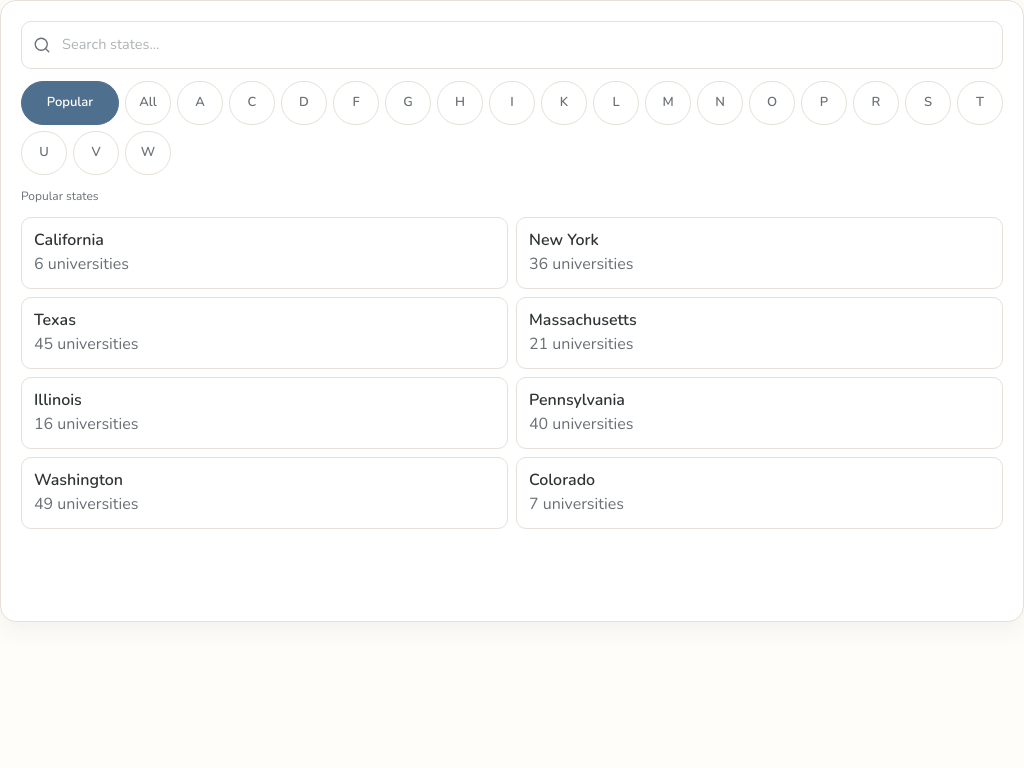
Test: StatePanel › returns to the first page when the search changes
Click the button "All" at [148, 103], box [125,81,171,125]
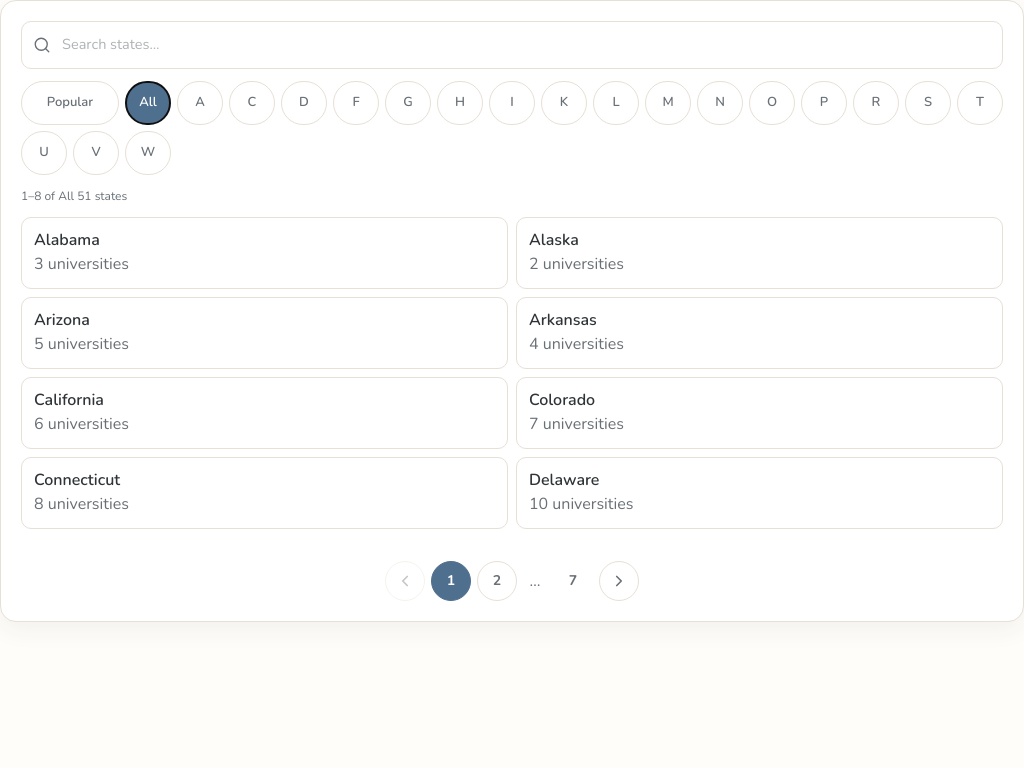
Click the button named "Next page" at [619, 581], box [599,561,639,601]
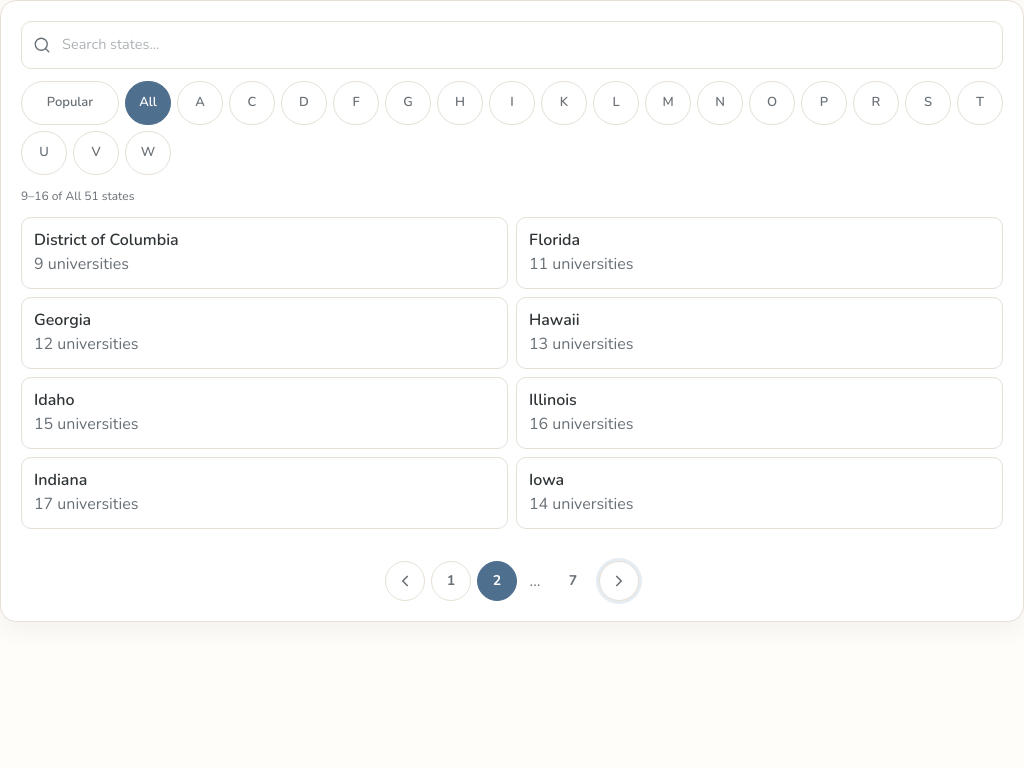
Click the button named "Next page" at [619, 581], box [599,561,639,601]
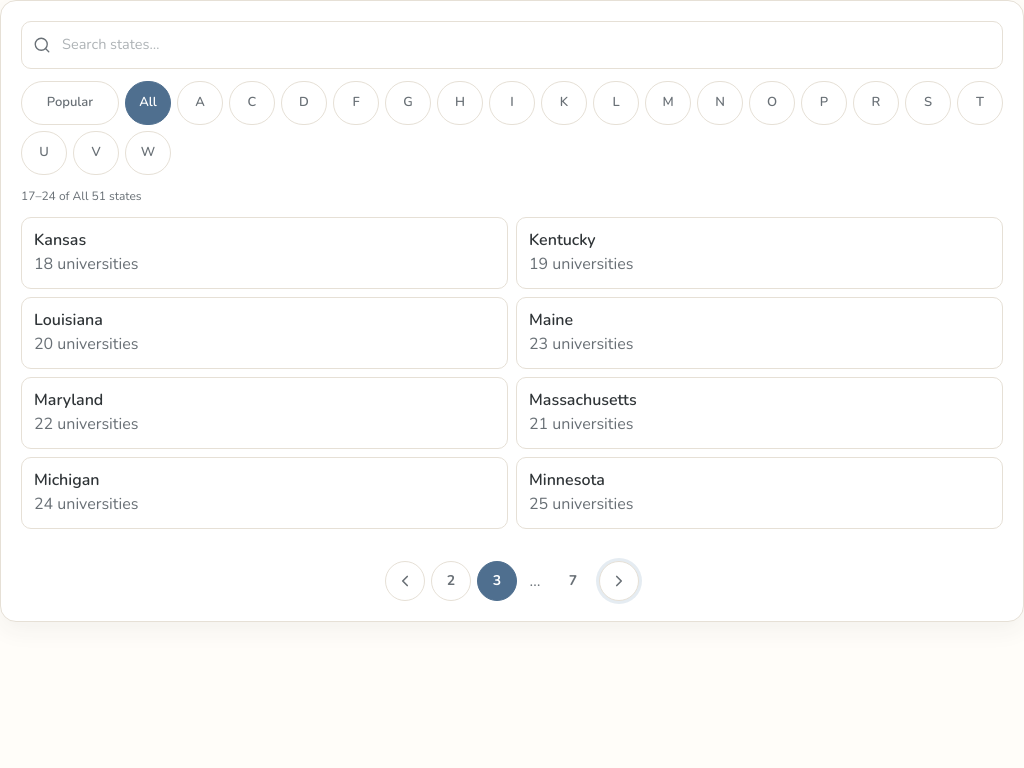
Type "new" into the search field labelled "Search states" at [512, 45], box [21,21,1003,69]
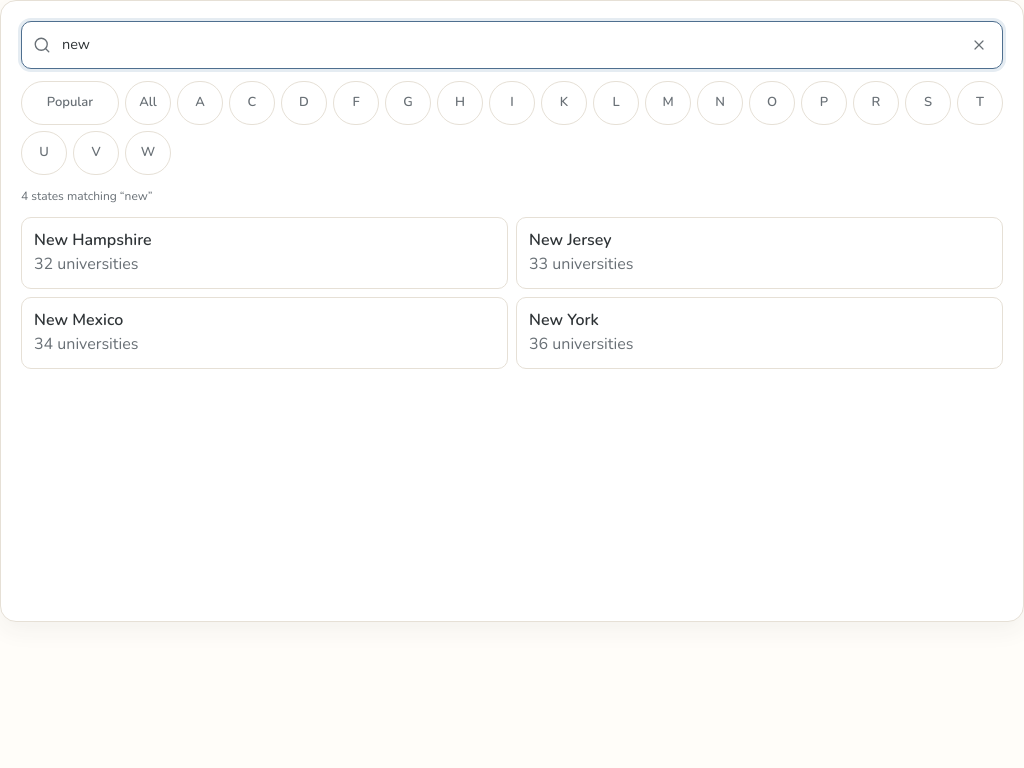
Check: the text "New Hampshire" is shown, box [34,229,152,251]
Check: the navigation bar "pagination" is gone
